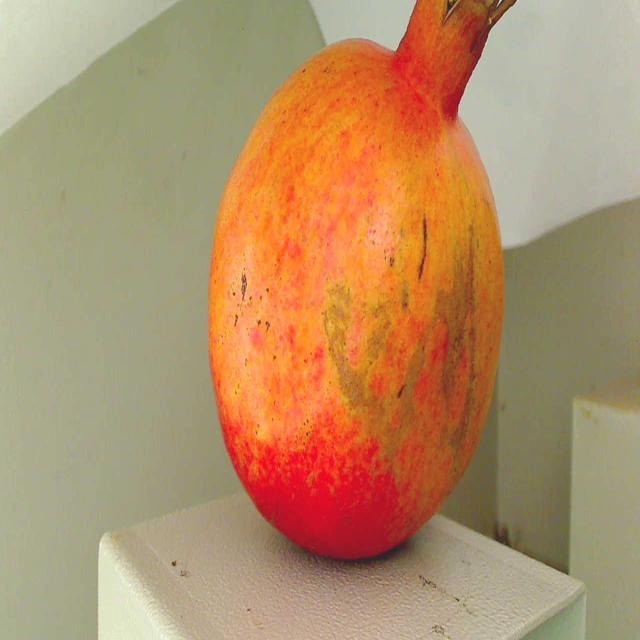pomegranate: (194, 0, 542, 580)
